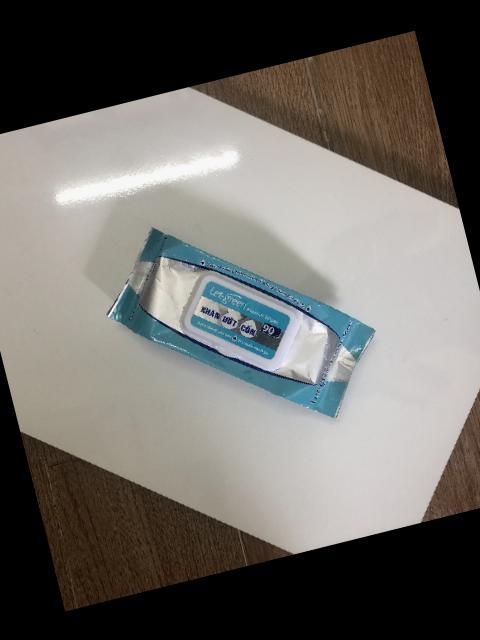Let-green_alcohol_wipes: (109, 227, 377, 417)
